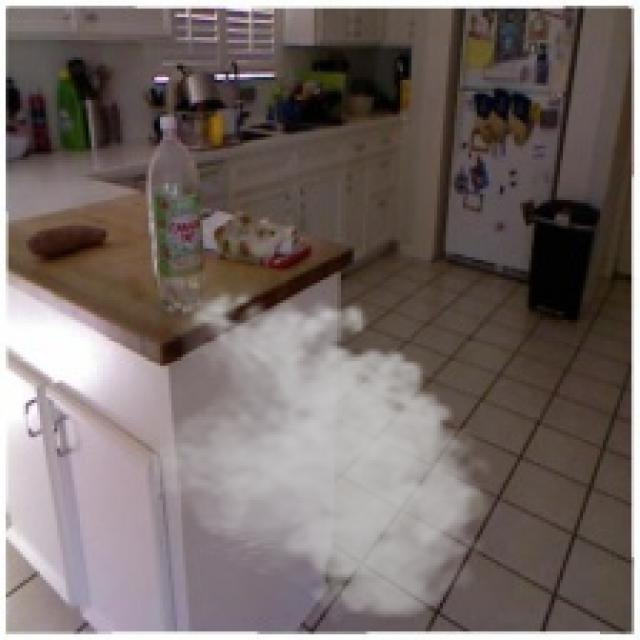Smoke: (148, 280, 501, 626)
